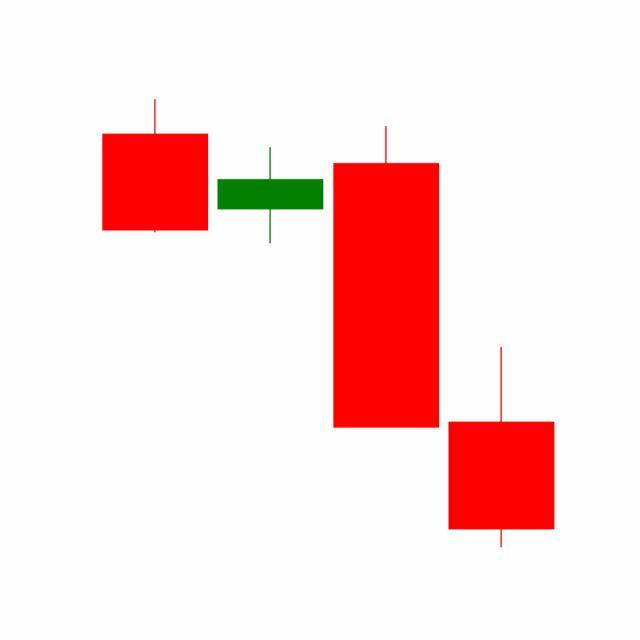Three Outside Up-Down: (211, 122, 555, 549)
